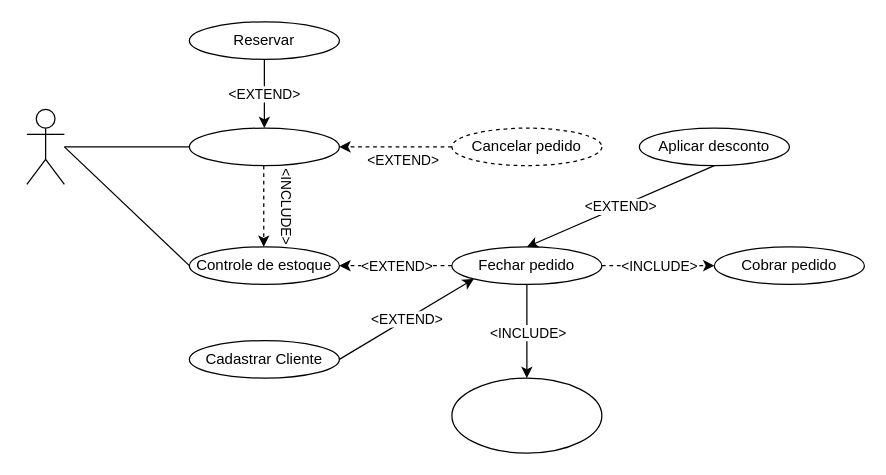
Some shapes in this 886 by 475 pixel diagram are drawn without their labels. The shapes that lost their labels are listed below. From the top down, each one's centre as x and y in pixels, then its label:
At pixel 45 146: "usuario".
At pixel 263 146: "Abrir pedido".
At pixel 526 415: "Registrar compra de cliente".
